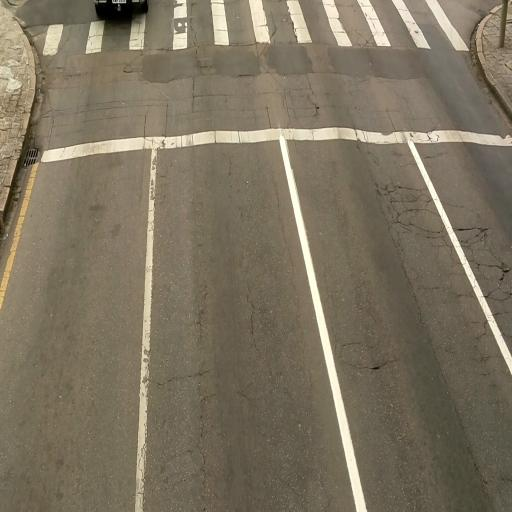car: (94, 1, 150, 18)
